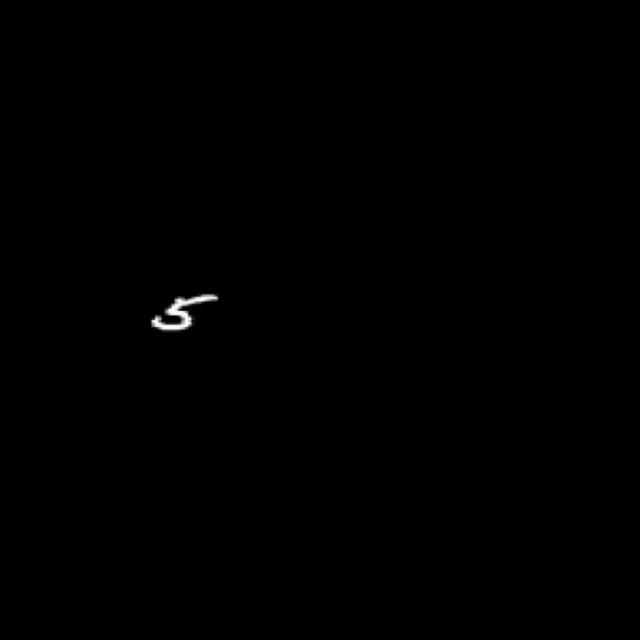five -5-: (140, 290, 223, 338)
